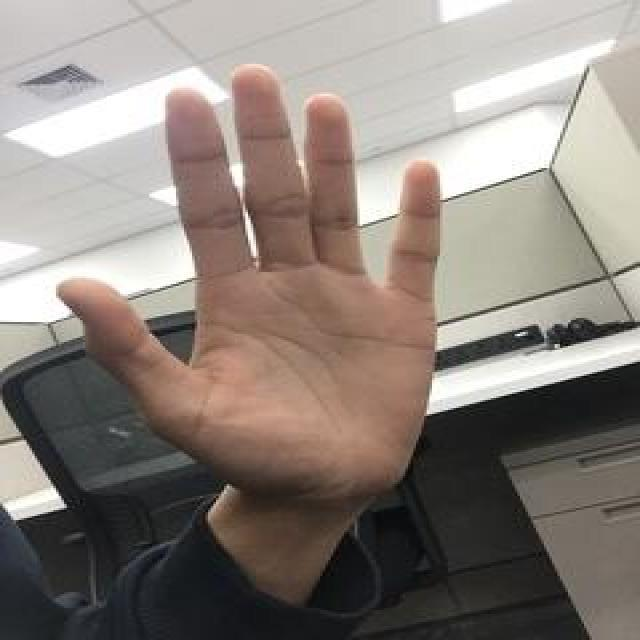no-gloves: (58, 58, 450, 500)
